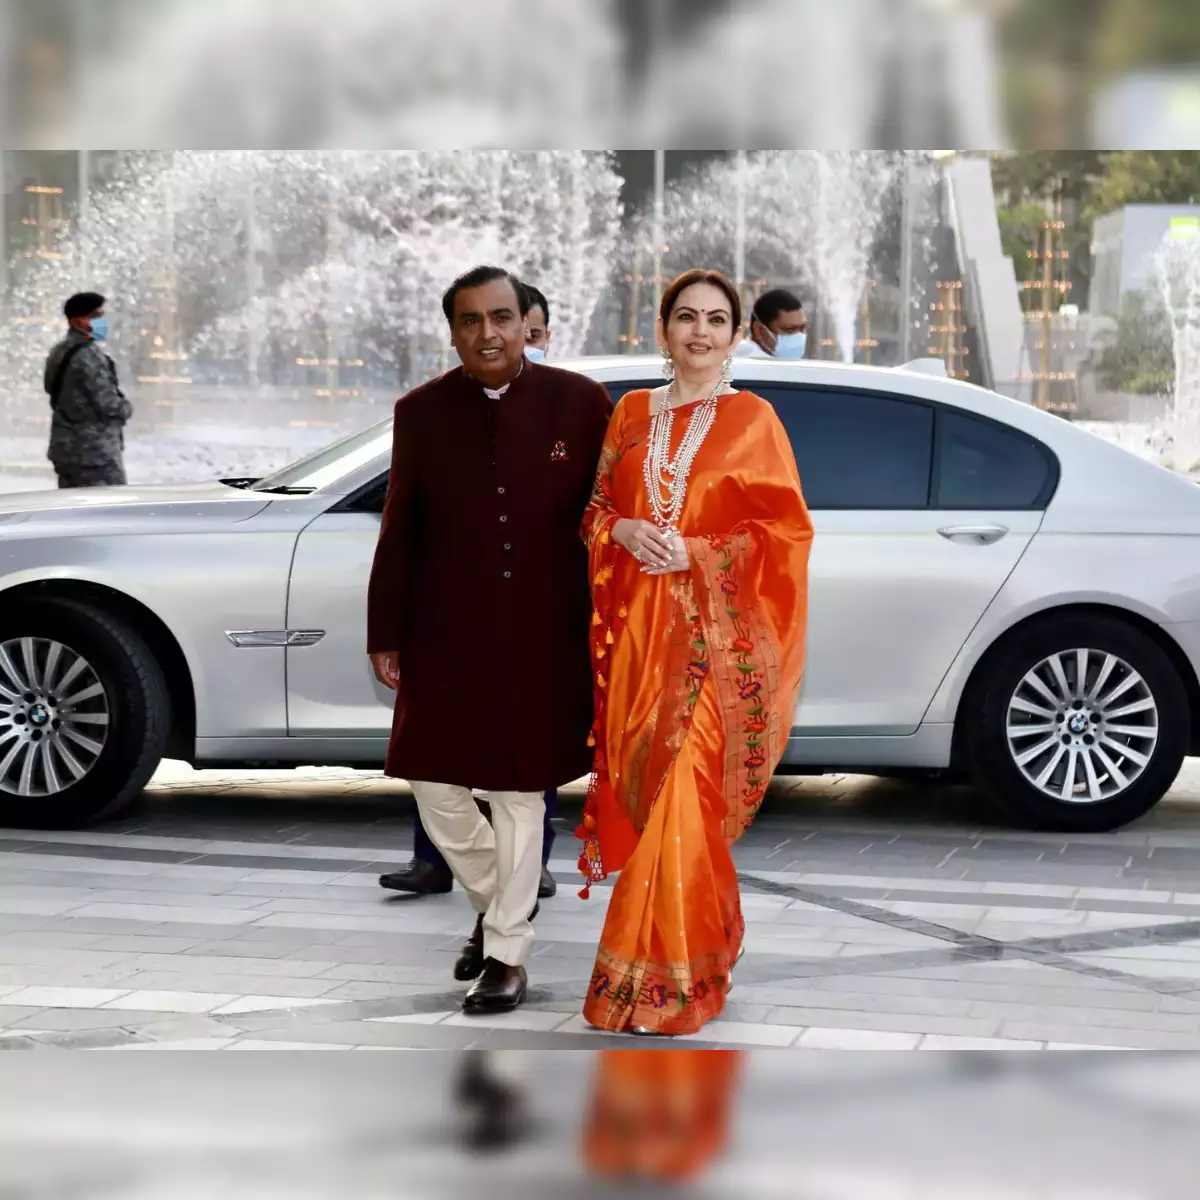person: (444, 277, 534, 392), (663, 278, 738, 381), (752, 289, 816, 367), (62, 295, 109, 341)
